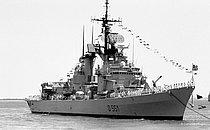MIL_Ship: (24, 0, 196, 120)
